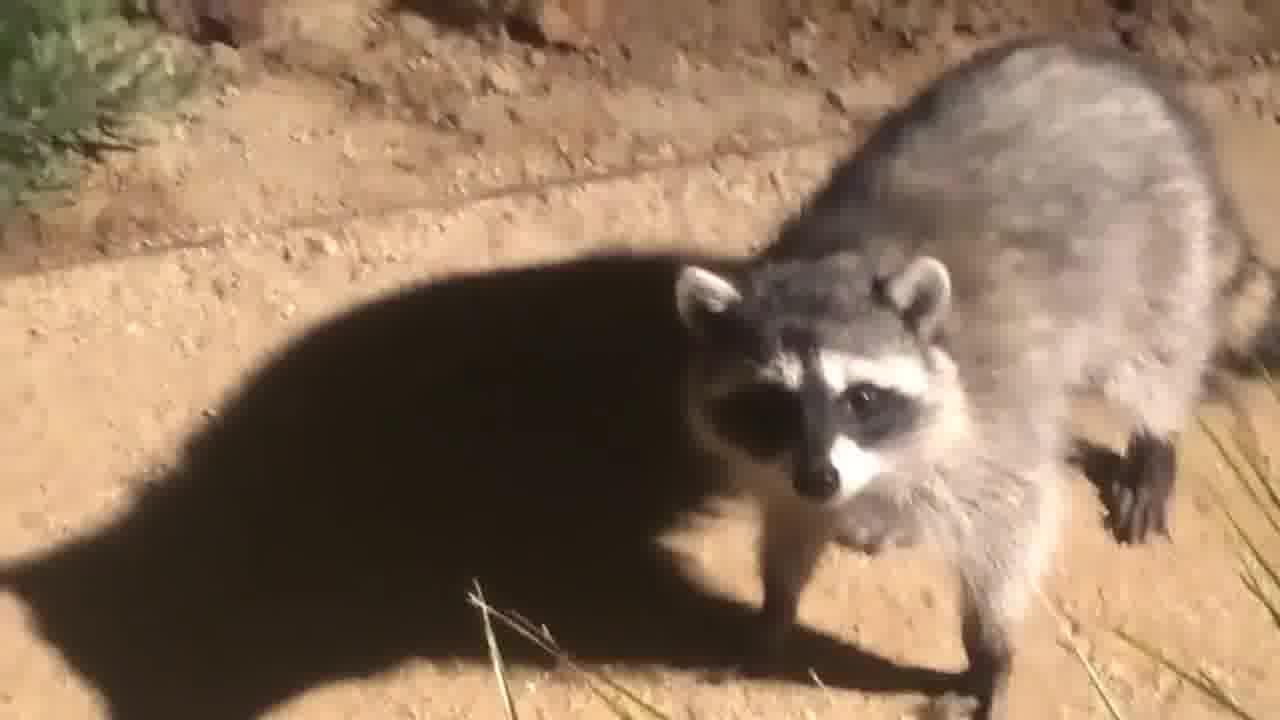raccoon: (663, 30, 1280, 720)
